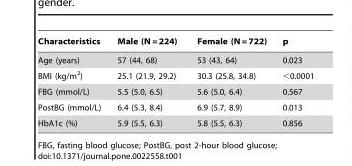table: (37, 36, 313, 127)
table column: (186, 36, 273, 127), (108, 36, 186, 127), (37, 36, 108, 127), (273, 36, 313, 127)
table column header: (37, 36, 313, 50)
table row: (37, 50, 313, 67), (37, 67, 313, 83), (37, 83, 313, 99), (37, 99, 313, 115), (37, 36, 313, 50), (37, 115, 313, 127)
